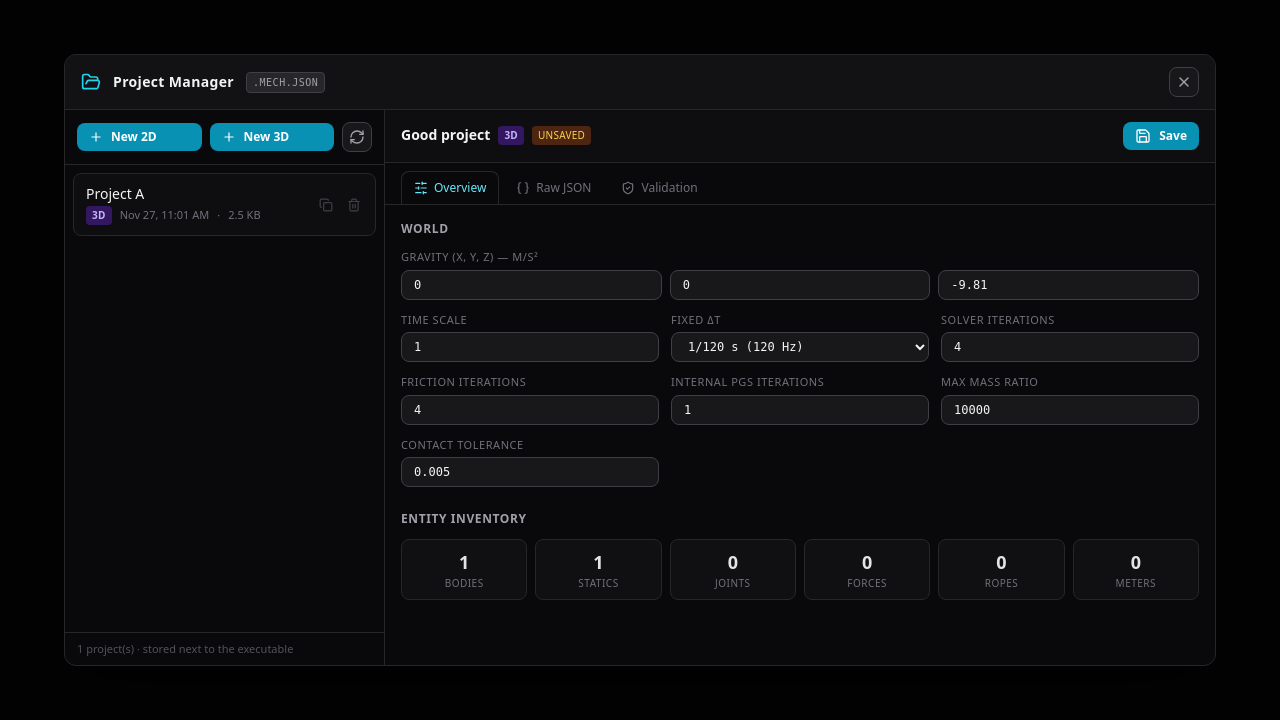
Scenario: ProjectManager › deletes a project after confirmation
Check: the text "Project A" is shown, box [86, 184, 144, 203]
Click the button named "Delete Project A": point(354, 204) [341, 192, 367, 218]
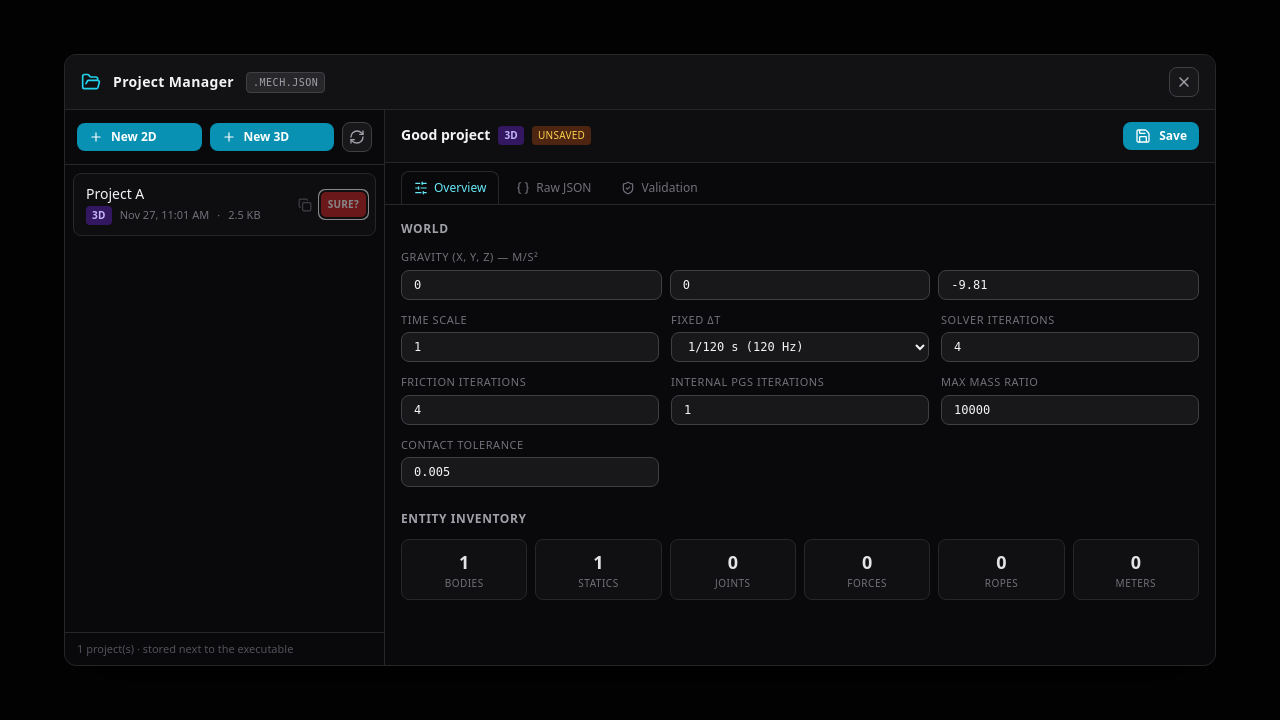
Click the button with aria-label "Confirm delete Project A": point(343, 204) [320, 191, 367, 218]
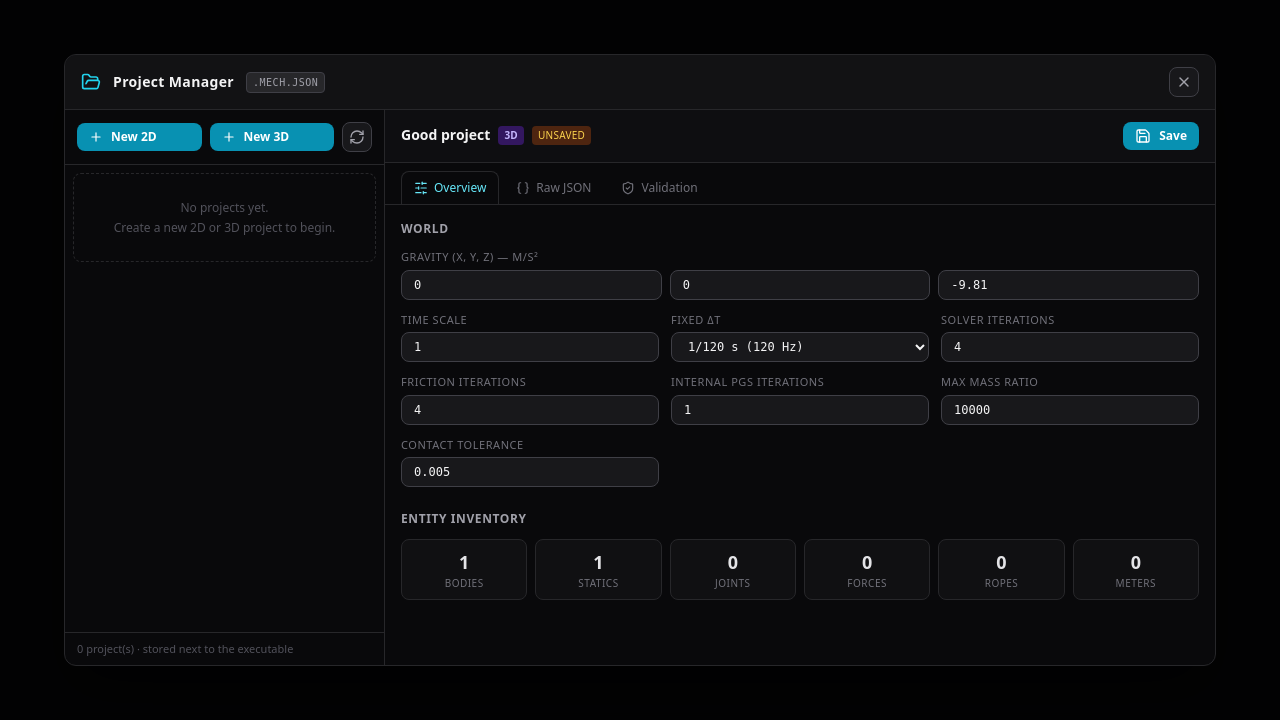
Check: the button "Project A" is gone
